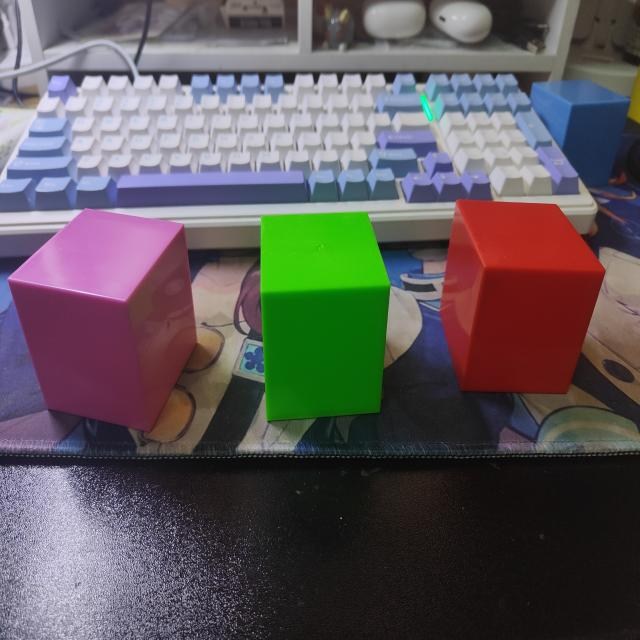green: (259, 214, 391, 424)
pink: (5, 202, 200, 436)
red: (442, 201, 605, 398)
